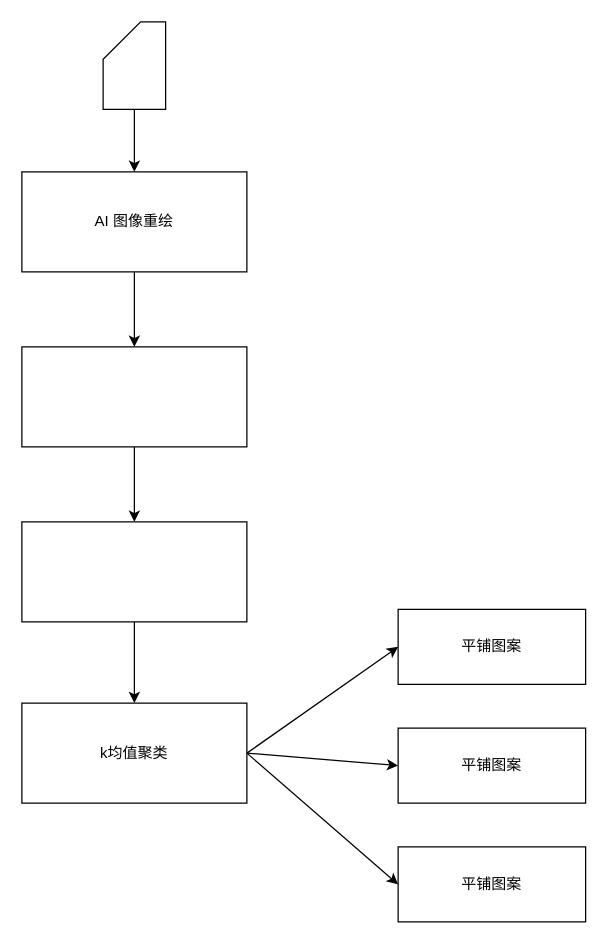
Some shapes in this 608 by 944 pixel diagram are drawn without their labels. Each missing label, with the centre of its shape:
image: point (134, 65)
图案区域划分: point (134, 571)
边缘检测: point (134, 396)
